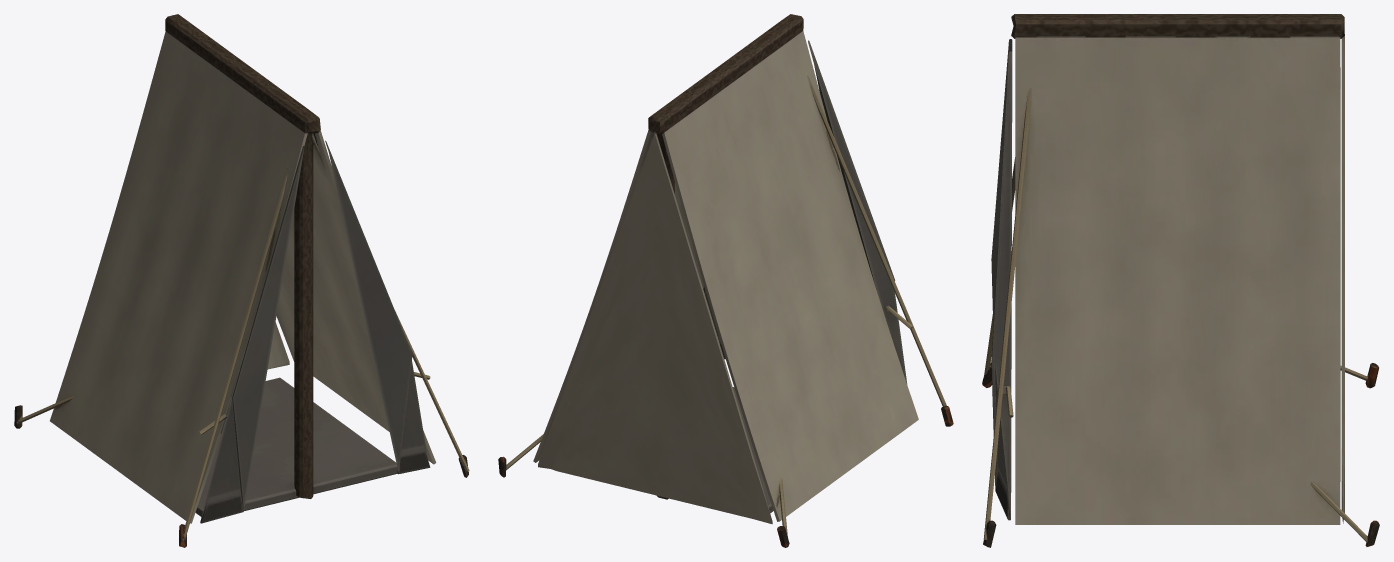
Rendered from tent.glb.
3 renders of one model, left to right at view 1: azimuth 30°, elevation 25°; view 2: azimuth 150°, elevation 25°; view 3: azimuth 270°, elevation 25°, orthographic. The views are drawn at different scales.
Parts seen in each view (by area): view 1: tent; view 2: tent; view 3: tent.
Part boxes in pixels (x1,y1,x2,y2): tent: (14, 14, 469, 547); tent: (498, 14, 953, 547); tent: (982, 14, 1379, 547).
Size of the model in its own units: 0.9383 by 1.19 by 0.9543.
1 material, 1 textured.
